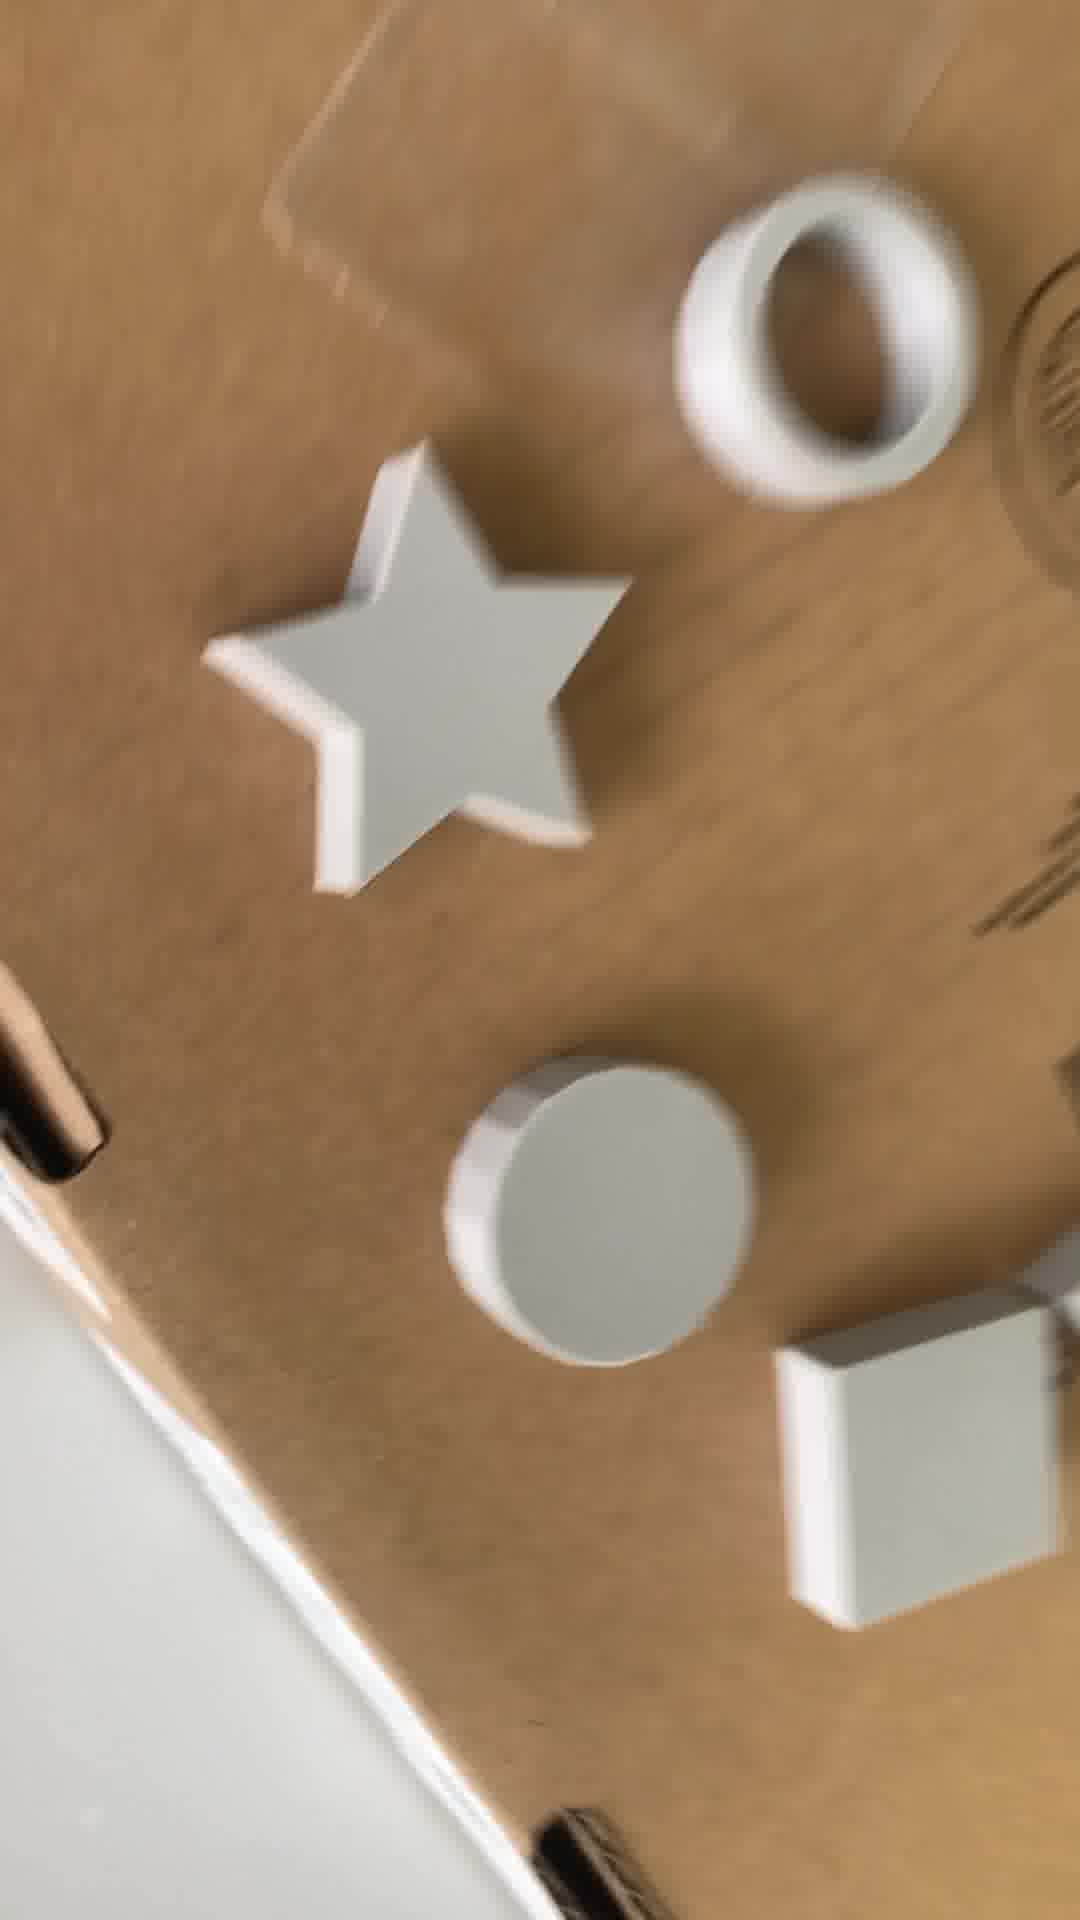Gray circle: (447, 1048, 771, 1391)
Gray ring: (679, 179, 992, 498)
Gray square: (773, 1317, 1075, 1615)
Gray star: (216, 440, 618, 909)
